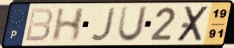2: (149, 6, 179, 43)
B: (23, 7, 55, 43)
H: (50, 6, 88, 43)
J: (89, 6, 118, 43)
U: (115, 5, 150, 44)
X: (175, 5, 212, 43)
